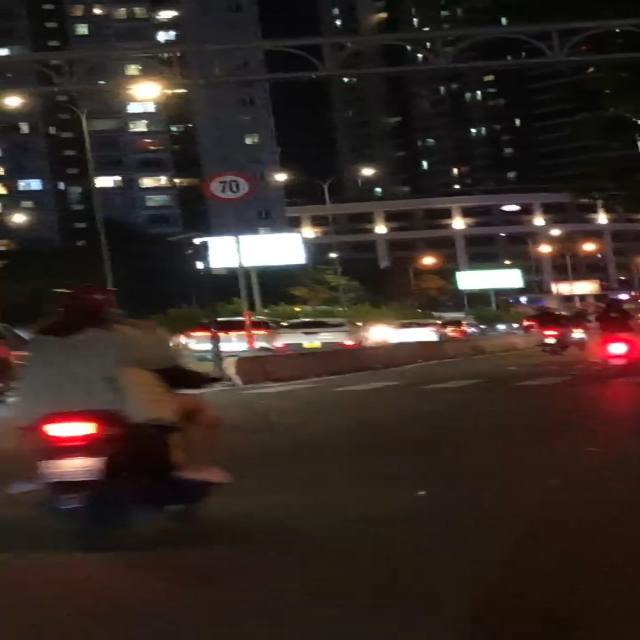Bien bao toc do toi da cho phep: (200, 169, 256, 203)
